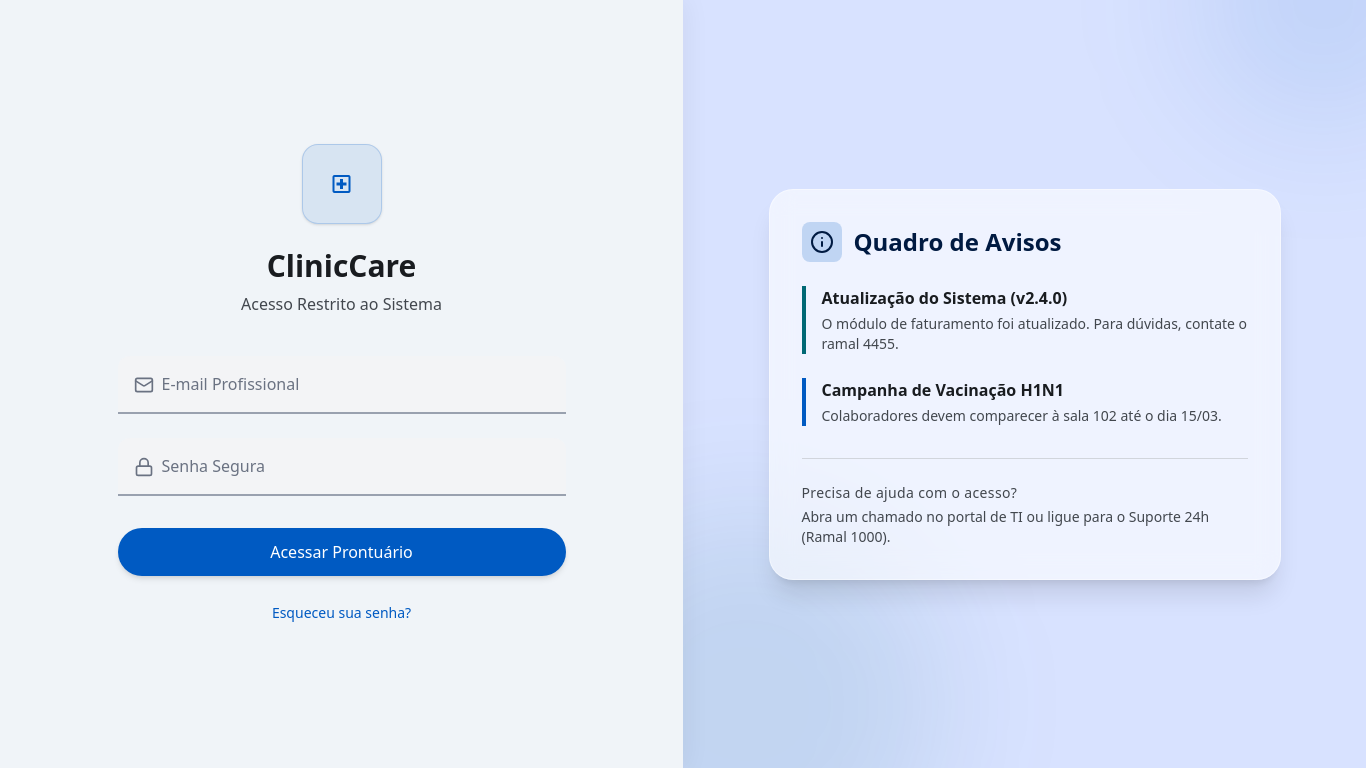
Login Page › displays error message when login fails
Step 1. Type "test@example.com" into the field labelled "E-mail Profissional" → coordinates (342, 385), box [118,356,566,414]
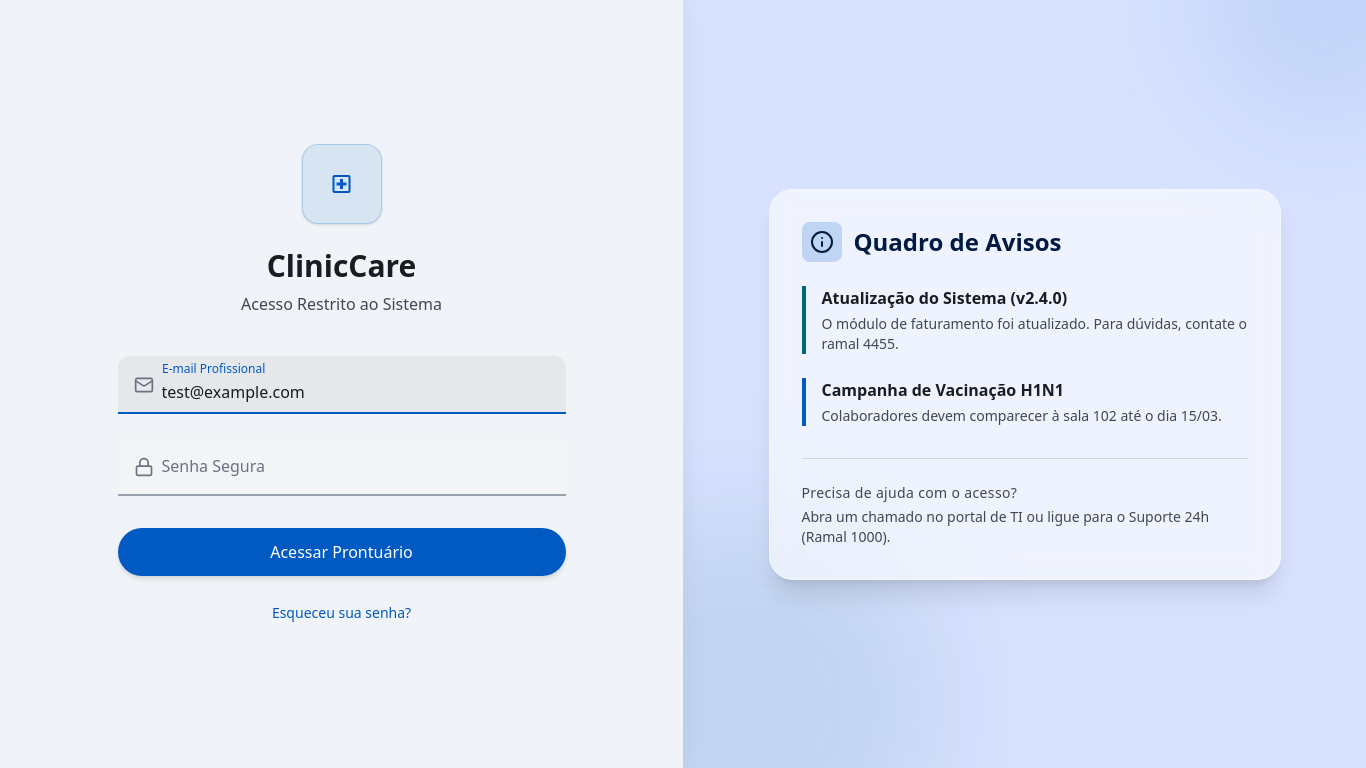
Step 2. Type "wrongpassword" into the password field labelled "Senha Segura" → coordinates (342, 467), box [118,438,566,496]
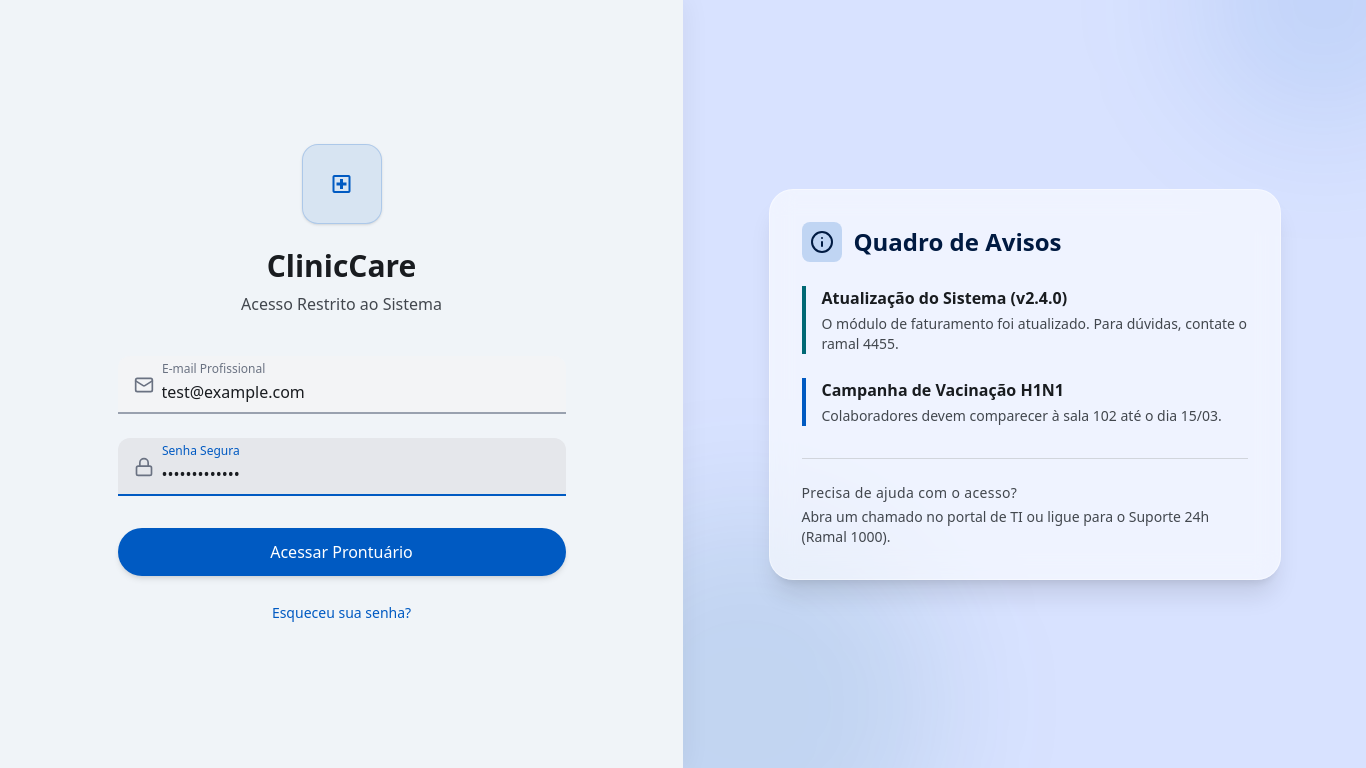
Step 3. Click the button "Acessar Prontuário" → coordinates (342, 552), box [118,528,566,576]
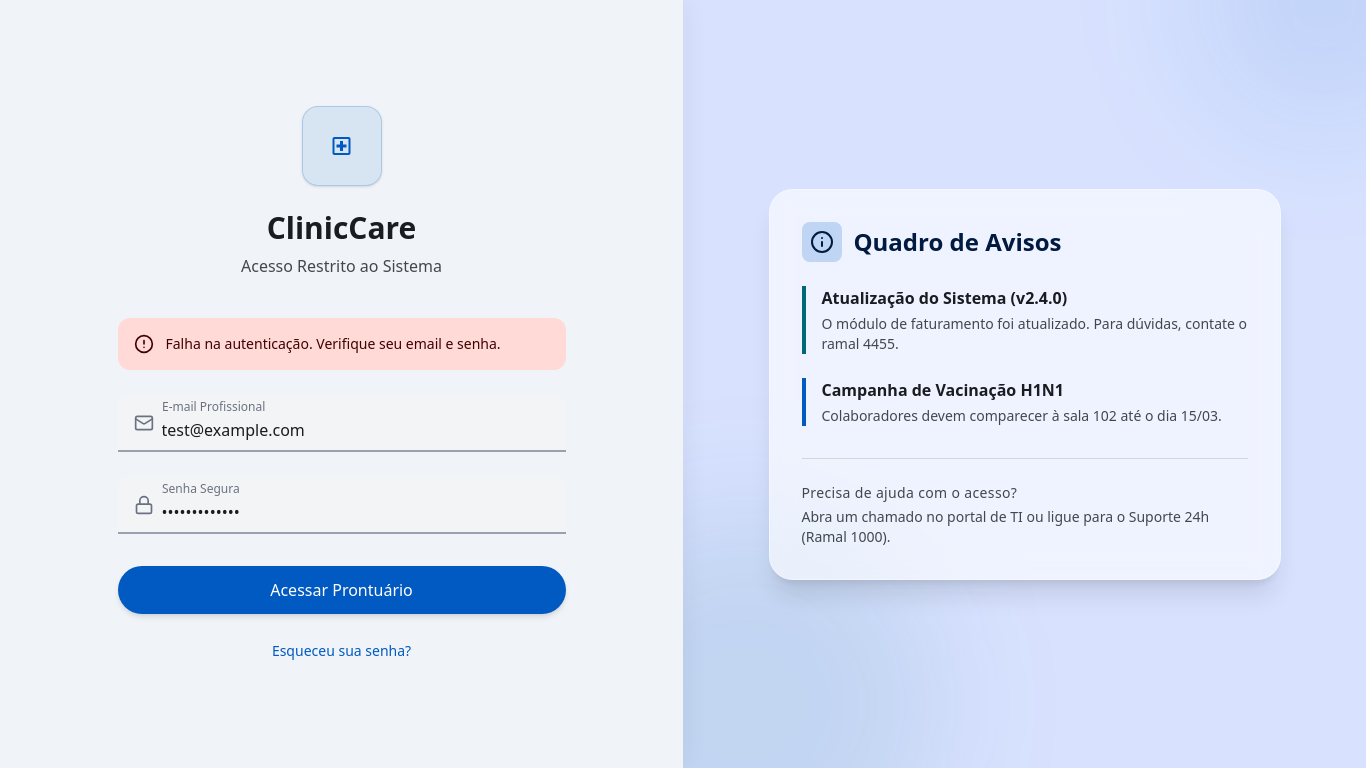
Now the text "Falha na autenticação. Verifique seu email e senha." is shown, box [166,334,501,354]
